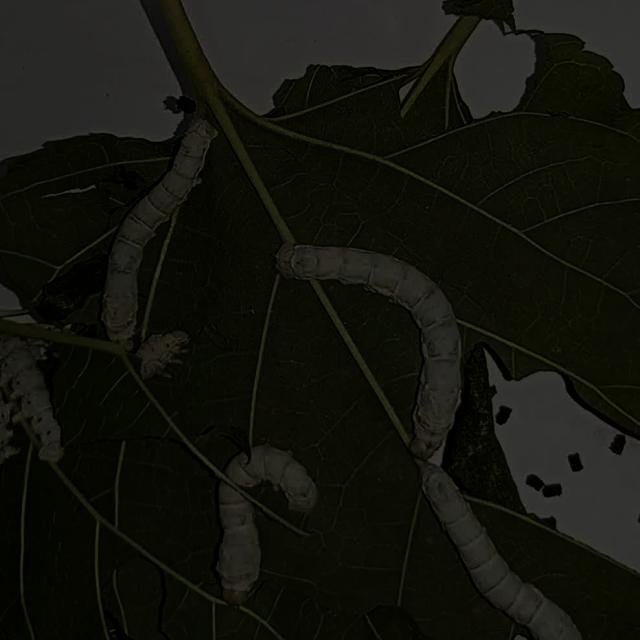Healthy: (268, 232, 470, 451), (90, 105, 226, 343), (408, 470, 597, 640), (197, 446, 325, 614)
